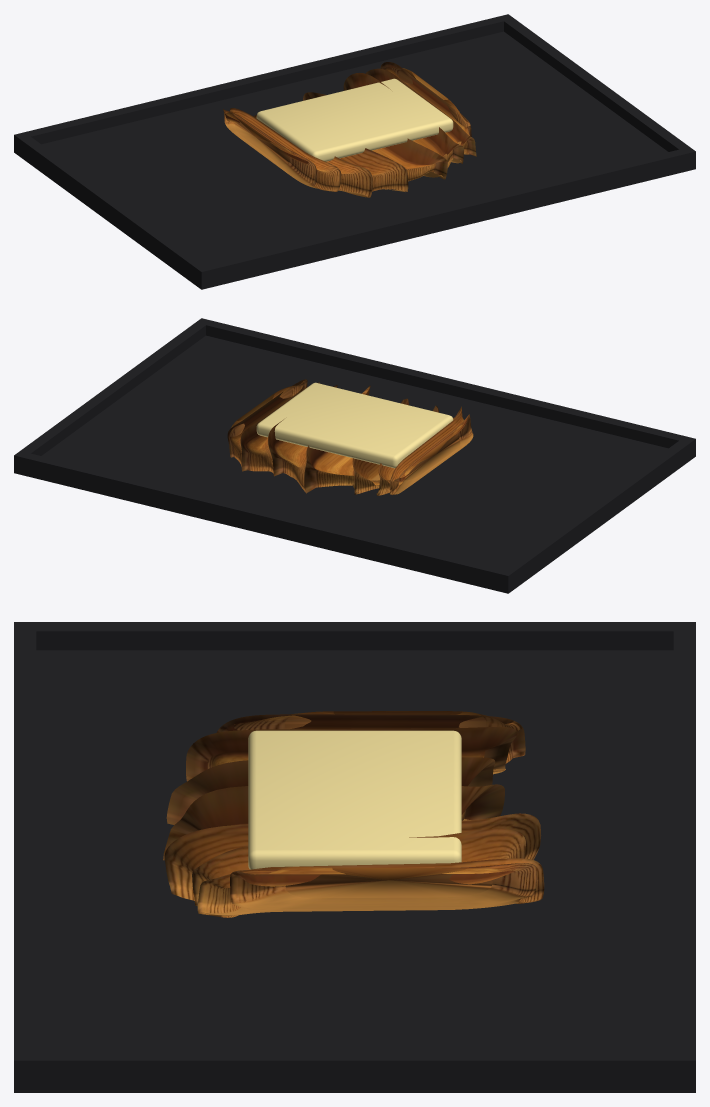
Rendered from croissant.glb.
3 views of the same model, one above another, from view 1: azimuth 30°, elevation 25°; view 2: azimuth 150°, elevation 25°; view 3: azimuth 270°, elevation 25° (orthographic). The views are drawn at different scales.
Parts seen in each view (by area): view 1: Tray, Croissant, Butter; view 2: Tray, Croissant, Butter; view 3: Tray, Croissant, Butter.
Boxes of the visible parts, left/top/right/bottom form: Tray: left=14, top=14, right=695, bottom=289; Croissant: left=223, top=62, right=476, bottom=197; Butter: left=256, top=78, right=453, bottom=161; Tray: left=14, top=318, right=695, bottom=593; Croissant: left=227, top=379, right=473, bottom=495; Butter: left=256, top=382, right=453, bottom=468; Tray: left=14, top=622, right=695, bottom=1092; Croissant: left=163, top=711, right=544, bottom=917; Butter: left=248, top=730, right=461, bottom=869.
Size of the model in its own units: 3.5 by 0.326 by 2.3.
Materials: 3 (1 with a texture image).
